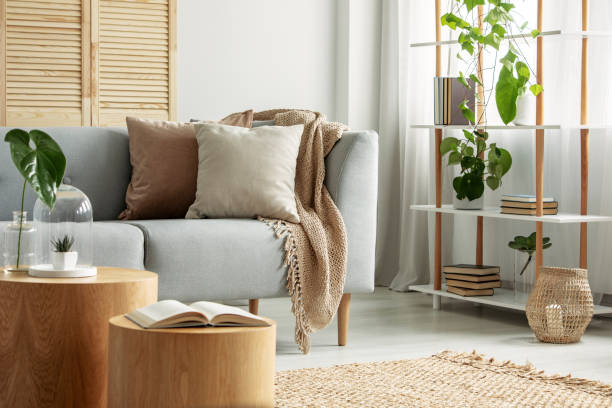small plant: (2, 126, 64, 278), (438, 133, 512, 214), (510, 229, 546, 306), (44, 230, 83, 271)
sofa: (0, 107, 380, 348)
table: (1, 258, 157, 408), (104, 305, 277, 408)
